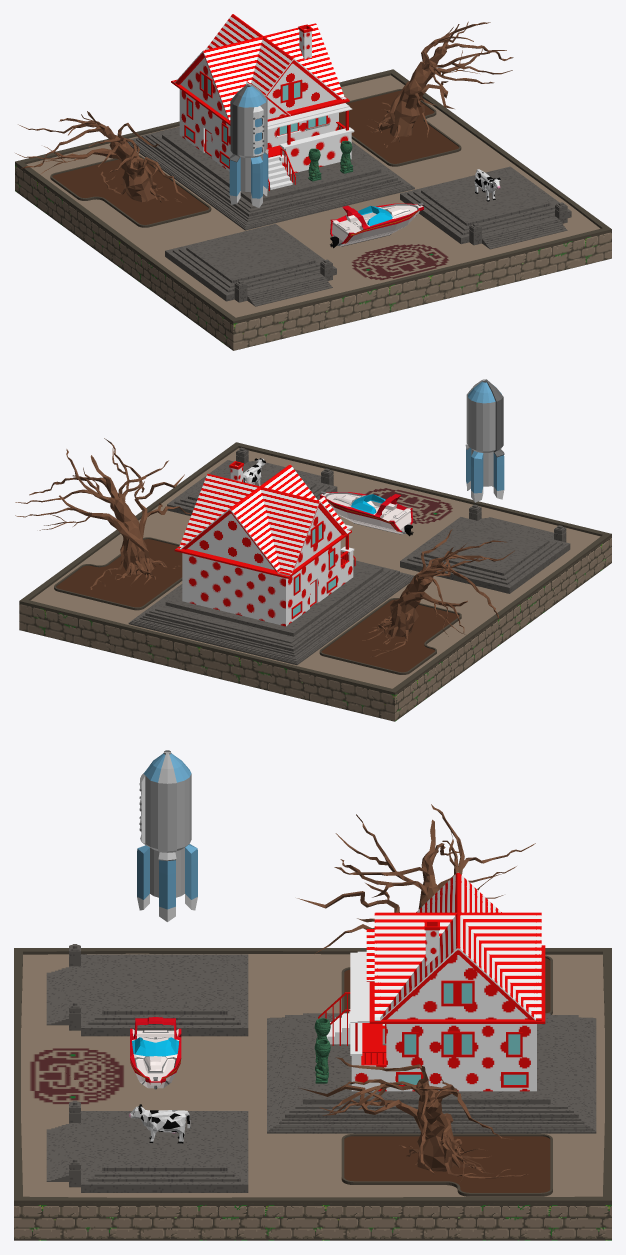
3 renders of one model, top to bottom at view 1: azimuth 30°, elevation 25°; view 2: azimuth 150°, elevation 25°; view 3: azimuth 270°, elevation 25°, orthographic. The views are drawn at different scales.
Parts seen in each view (by area): view 1: Cube.011, Cube.196, OBJRANDOM_ROCKETSHIP, VEHICLES_BOAT, ANIMAL_VACA; view 2: Cube.011, Cube.196, OBJRANDOM_ROCKETSHIP, VEHICLES_BOAT; view 3: Cube.011, Cube.196, OBJRANDOM_ROCKETSHIP, VEHICLES_BOAT, ANIMAL_VACA.
Part boxes in pixels (box(x1,y1,x2,y2)): Cube.011: box(15, 21, 611, 350); Cube.196: box(171, 14, 354, 190); OBJRANDOM_ROCKETSHIP: box(229, 83, 268, 207); VEHICLES_BOAT: box(330, 203, 423, 248); ANIMAL_VACA: box(474, 169, 500, 201); Cube.011: box(15, 438, 611, 721); Cube.196: box(174, 461, 355, 626); OBJRANDOM_ROCKETSHIP: box(465, 379, 504, 502); VEHICLES_BOAT: box(320, 491, 413, 536); Cube.011: box(14, 804, 611, 1240); Cube.196: box(318, 872, 545, 1091); OBJRANDOM_ROCKETSHIP: box(137, 750, 197, 921); VEHICLES_BOAT: box(130, 1017, 181, 1089); ANIMAL_VACA: box(129, 1104, 190, 1143).
Bounding box in the file's own units: 5099 × 2126 × 4000.
28 materials, 7 textured.
